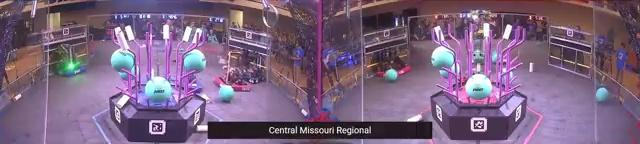reef: (110, 23, 208, 144), (429, 21, 527, 139)
robot: (214, 50, 252, 93), (374, 48, 411, 80), (55, 43, 87, 79), (242, 48, 268, 84)
